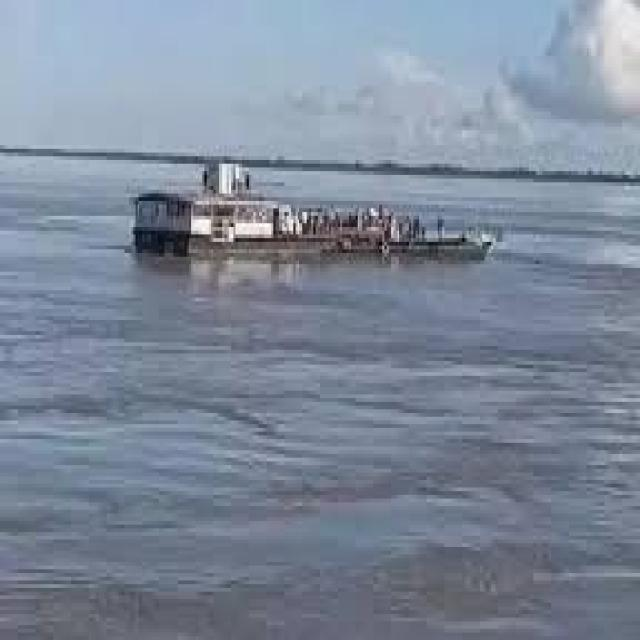houseboat: (123, 136, 503, 265)
